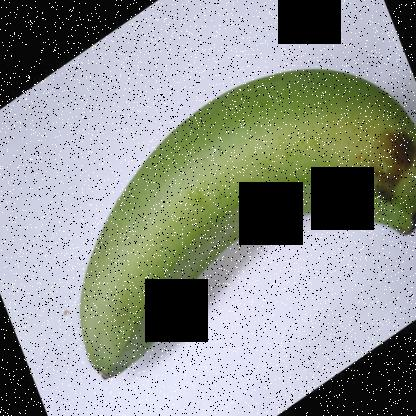freshunripe: (48, 57, 416, 393)
